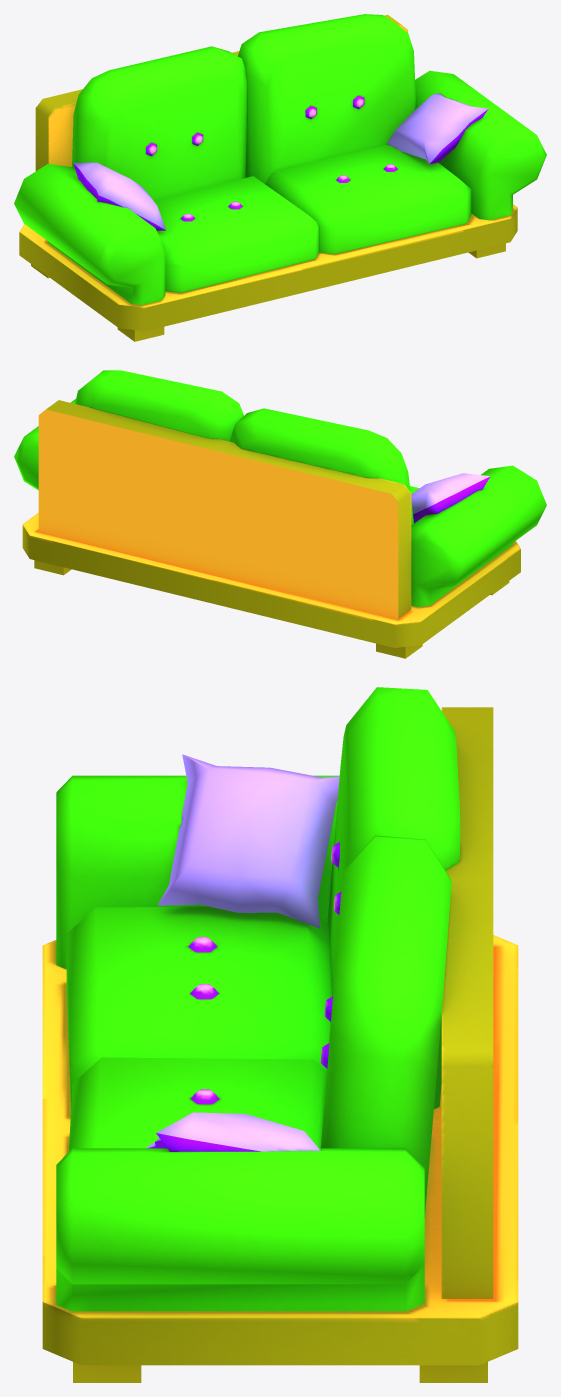
The model's file is cocobay_env_armchair.gltf.
3 renders of one model, top to bottom at view 1: azimuth 30°, elevation 25°; view 2: azimuth 150°, elevation 25°; view 3: azimuth 270°, elevation 25°, orthographic. The views are drawn at different scales.
Parts seen in each view (by area): view 1: cocobay_env_armchair_glb; view 2: cocobay_env_armchair_glb; view 3: cocobay_env_armchair_glb.
Part boxes in pixels (left/top/right/bottom): cocobay_env_armchair_glb: left=14, top=14, right=546, bottom=341; cocobay_env_armchair_glb: left=14, top=370, right=546, bottom=658; cocobay_env_armchair_glb: left=42, top=687, right=518, bottom=1382.
Size of what is drawn, in the model's own units: 2.41 by 0.9999 by 1.11.
Materials: 1 (1 with a texture image).
